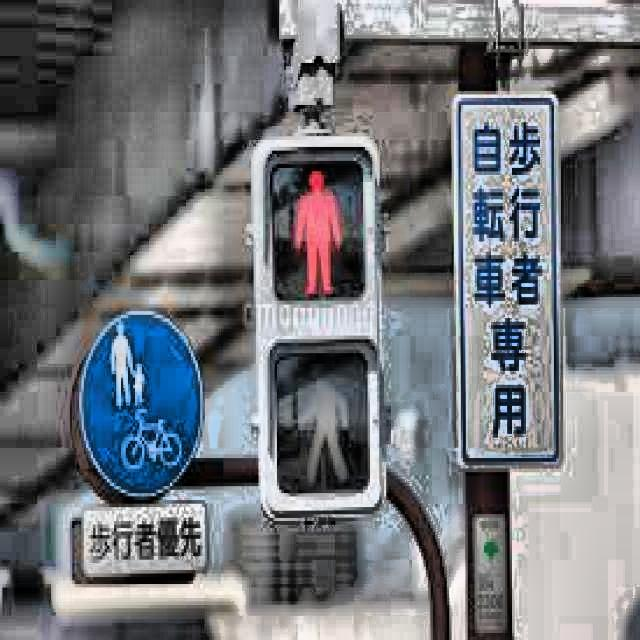semaforo pedestre: (188, 90, 456, 547)
